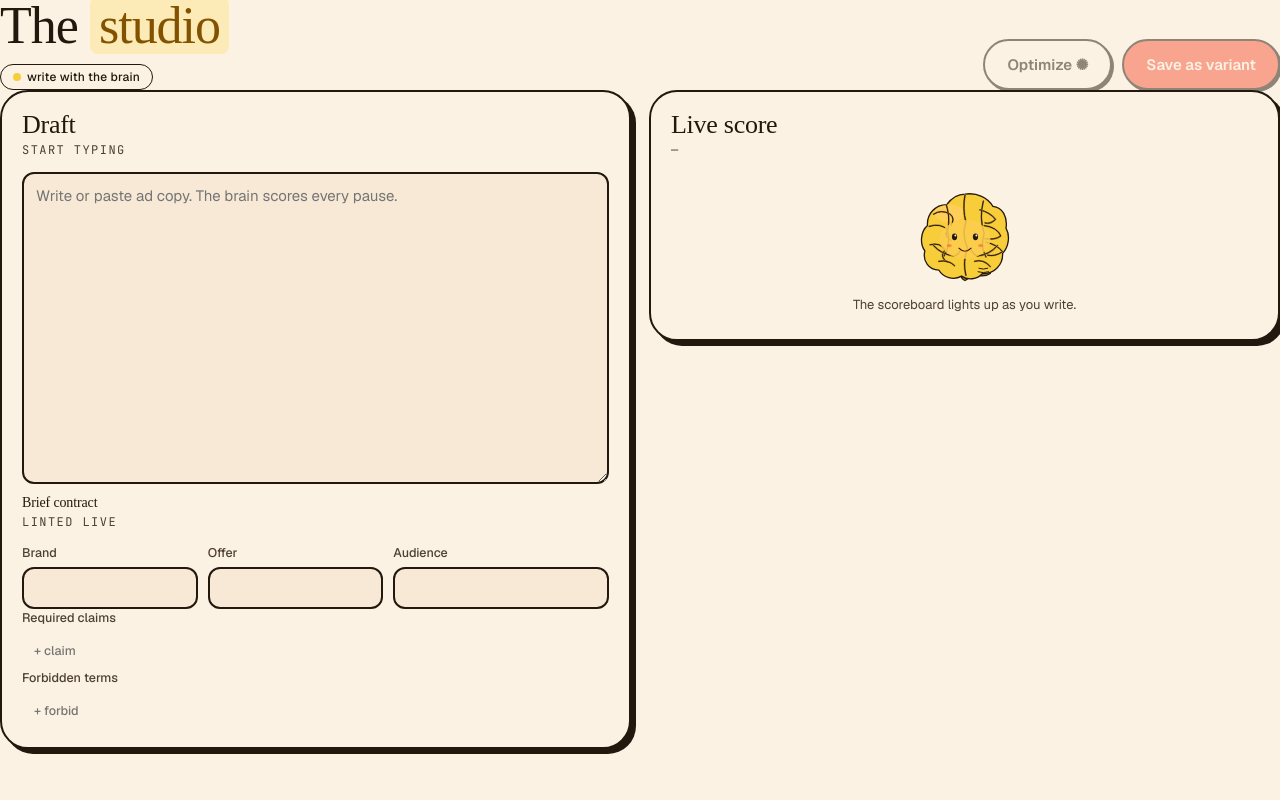
Test: StudioView › does not send lineage when the draft has no source
In the text box named "ad copy draft": (316,328) x1=22 y1=172 x2=609 y2=484, type "Fresh draft"
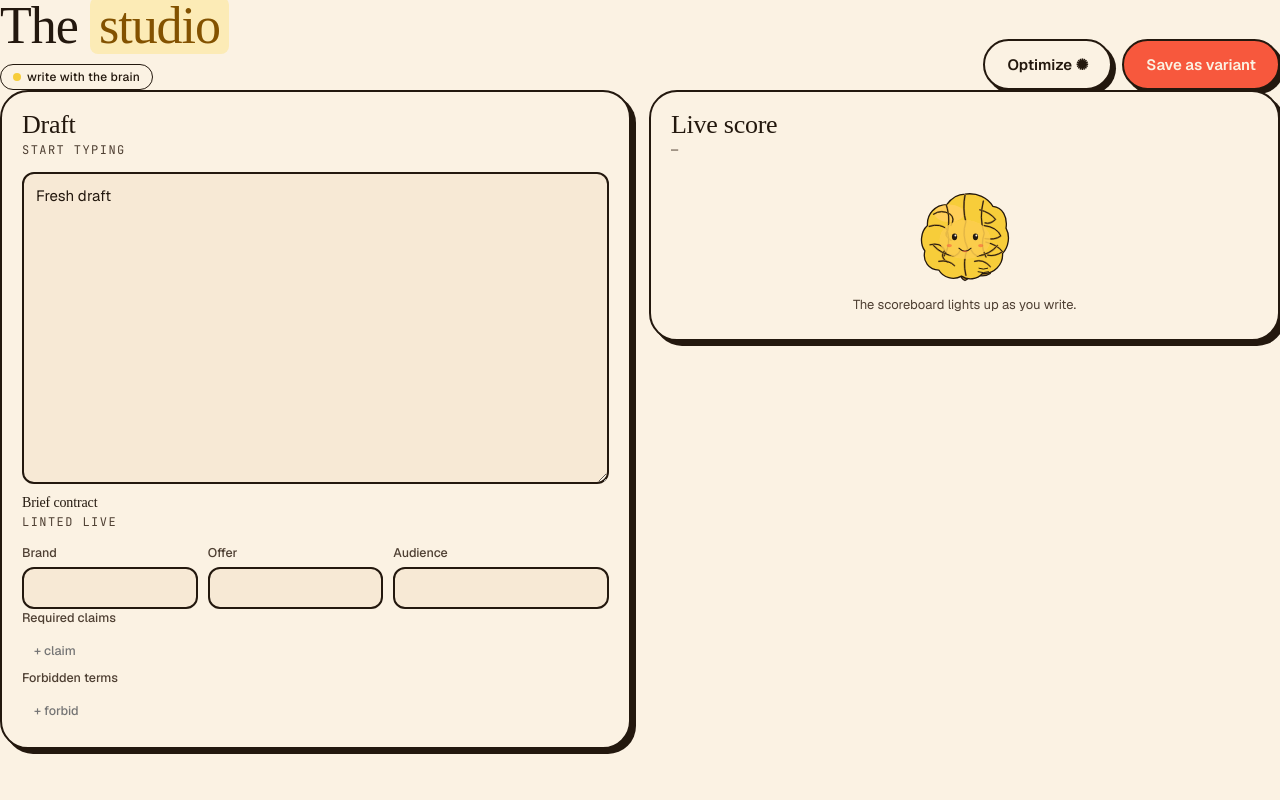
Click the button "Save as variant": (1201,64) x1=1122 y1=39 x2=1279 y2=90
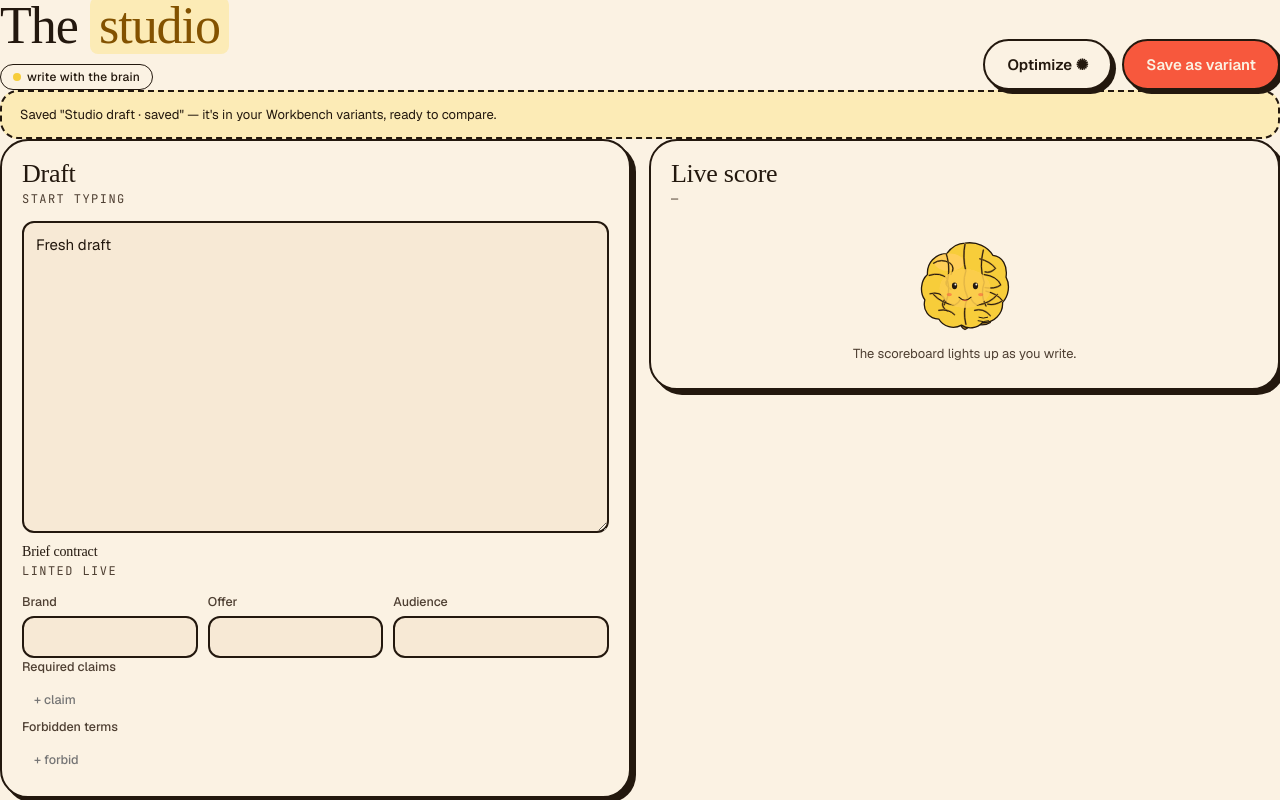
Result: the text "Saved \"Studio draft · saved\"" is shown at x1=20 y1=106 x2=496 y2=123
